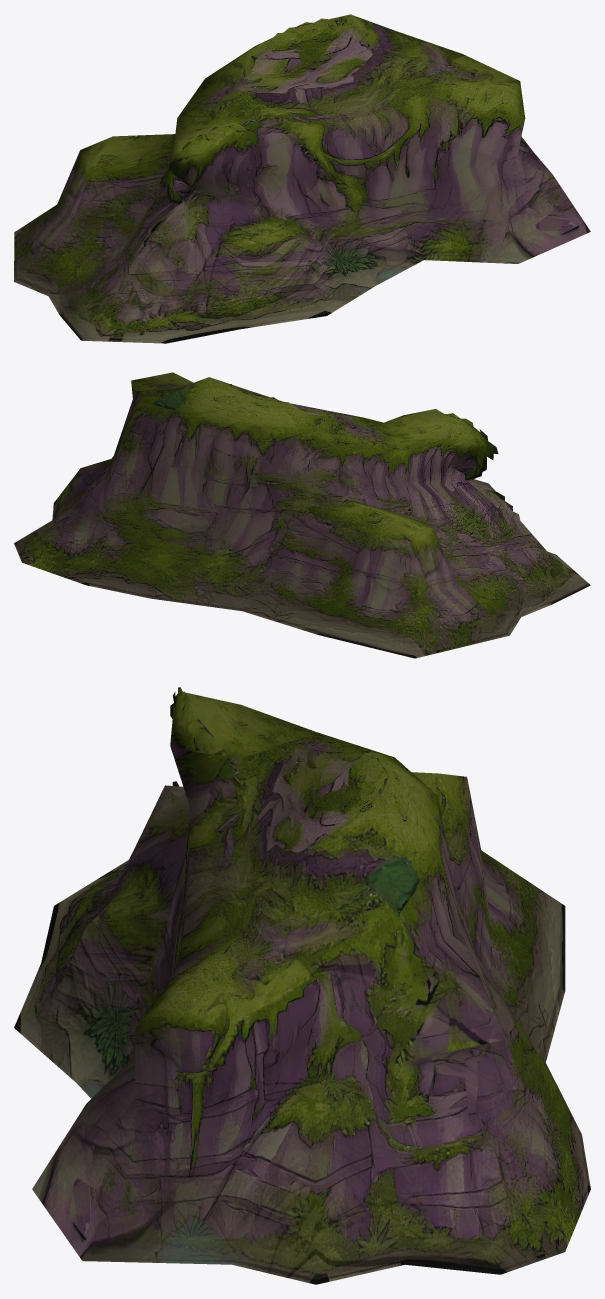
Rendered from mountain01.glb.
The picture shows the model from 3 angles, top to bottom: view 1: azimuth 30°, elevation 25°; view 2: azimuth 150°, elevation 25°; view 3: azimuth 270°, elevation 25°; orthographic projection. The views are drawn at different scales.
Visible parts, largest first — view 1: Mountain01; view 2: Mountain01; view 3: Mountain01.
Part boxes in pixels (x1,y1,x2,y2): Mountain01: (14,14,590,343); Mountain01: (14,372,590,658); Mountain01: (14,687,590,1284).
Size of the model in its own units: 20.28 by 7.14 by 11.53.
Materials: 1 (1 with a texture image).
